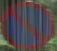No waiting: (2, 1, 50, 48)
